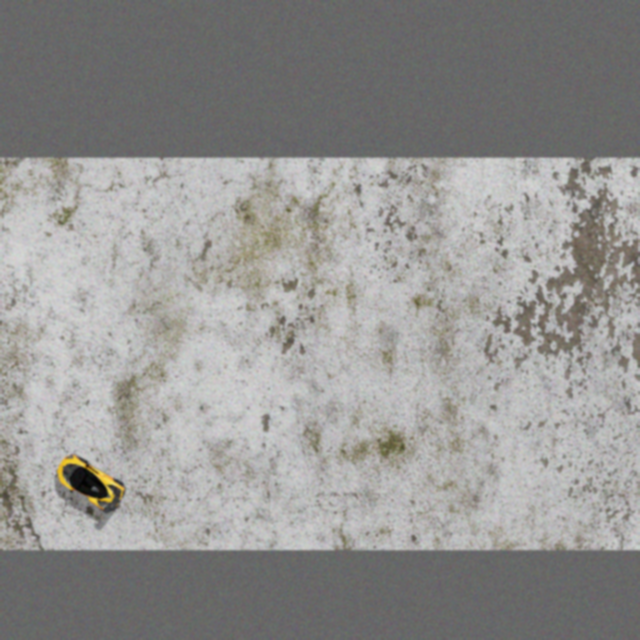car: (46, 449, 131, 518)
